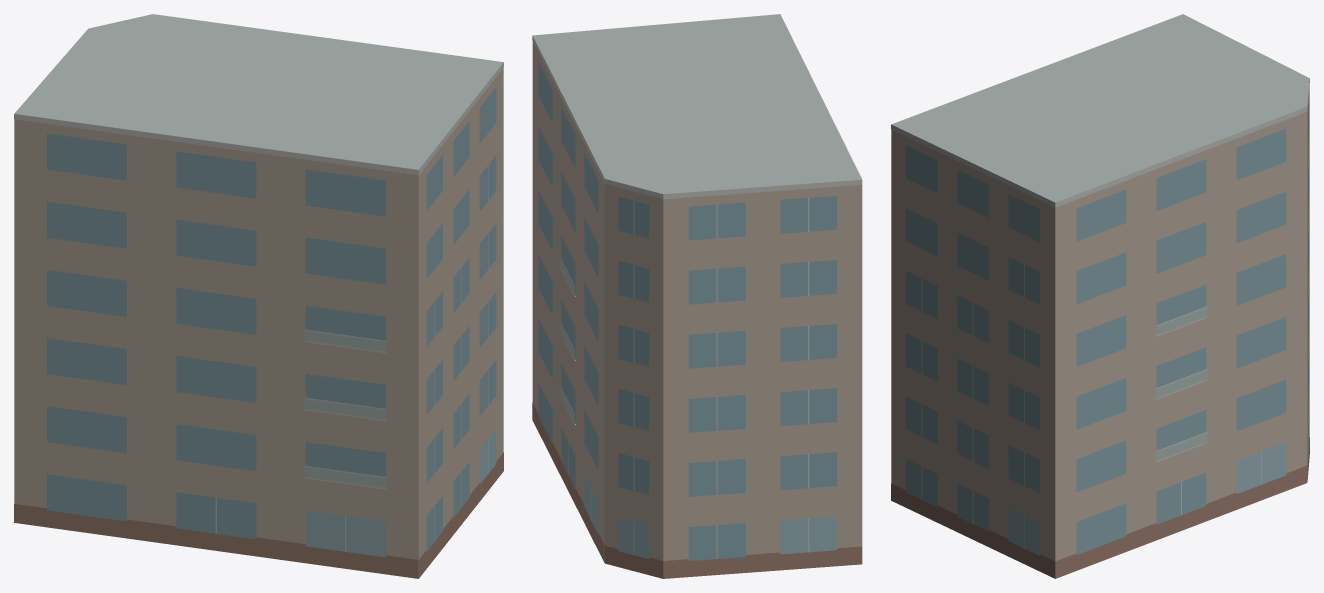
Rendered from survey-upis-32907510.glb.
3 renders of one model, left to right at view 1: azimuth 30°, elevation 25°; view 2: azimuth 150°, elevation 25°; view 3: azimuth 270°, elevation 25°, orthographic. The views are drawn at different scales.
Parts seen in each view (by area): view 1: survey-upis-32907510.tmp; view 2: survey-upis-32907510.tmp; view 3: survey-upis-32907510.tmp.
Part boxes in pixels (x1,y1,x2,y2): survey-upis-32907510.tmp: [14, 14, 503, 578]; survey-upis-32907510.tmp: [532, 14, 862, 578]; survey-upis-32907510.tmp: [891, 14, 1309, 578].
Size of the model in its own units: 19.69 by 18.3 by 18.46.
